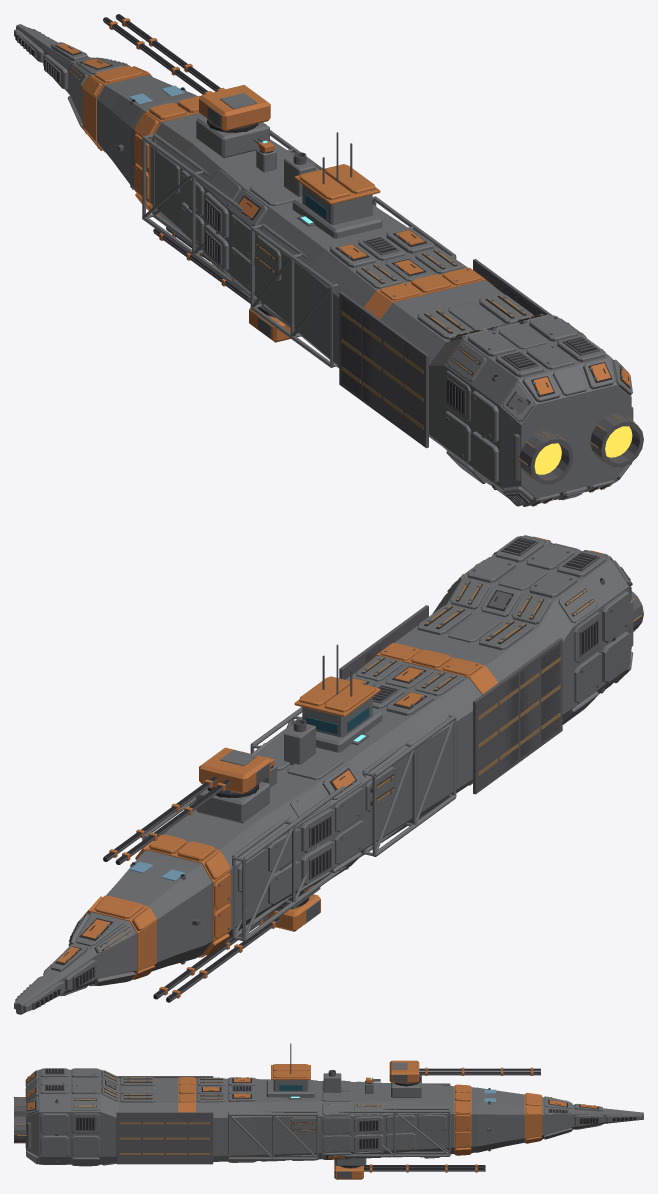
The model's file is mars_gun_cruiser.glb.
3 views of the same model, one above another, from view 1: azimuth 30°, elevation 25°; view 2: azimuth 150°, elevation 25°; view 3: azimuth 270°, elevation 25° (orthographic). The views are drawn at different scales.
Visible parts, largest first — view 1: FleetHull, mesh_turret_gun_1, mesh_recoil_gun_1, mesh_recoil_gun_2; view 2: FleetHull, mesh_turret_gun_1, mesh_recoil_gun_1, mesh_recoil_gun_2, mesh_turret_gun_2; view 3: FleetHull, mesh_recoil_gun_1, mesh_recoil_gun_2, mesh_turret_gun_1, mesh_turret_gun_2.
Boxes of the visible parts, x1,y1,x2,y2 form: FleetHull: [14, 24, 643, 506]; mesh_turret_gun_1: [199, 85, 270, 131]; mesh_recoil_gun_1: [103, 14, 224, 94]; mesh_recoil_gun_2: [153, 227, 250, 303]; FleetHull: [14, 535, 643, 1014]; mesh_turret_gun_1: [199, 747, 270, 794]; mesh_recoil_gun_1: [103, 776, 230, 864]; mesh_recoil_gun_2: [153, 916, 280, 1002]; mesh_turret_gun_2: [263, 894, 320, 931]; FleetHull: [14, 1043, 643, 1167]; mesh_recoil_gun_1: [419, 1067, 540, 1075]; mesh_recoil_gun_2: [364, 1164, 485, 1172]; mesh_turret_gun_1: [389, 1060, 419, 1083]; mesh_turret_gun_2: [334, 1159, 363, 1179].
Bounding box in the file's own units: 40.04 × 65.24 × 285.
